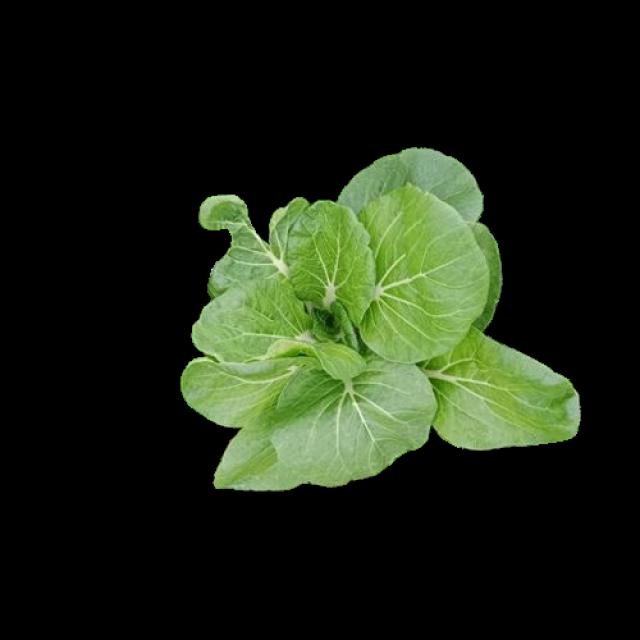mature: (182, 148, 578, 488)
unhealthy: (197, 192, 338, 297)
